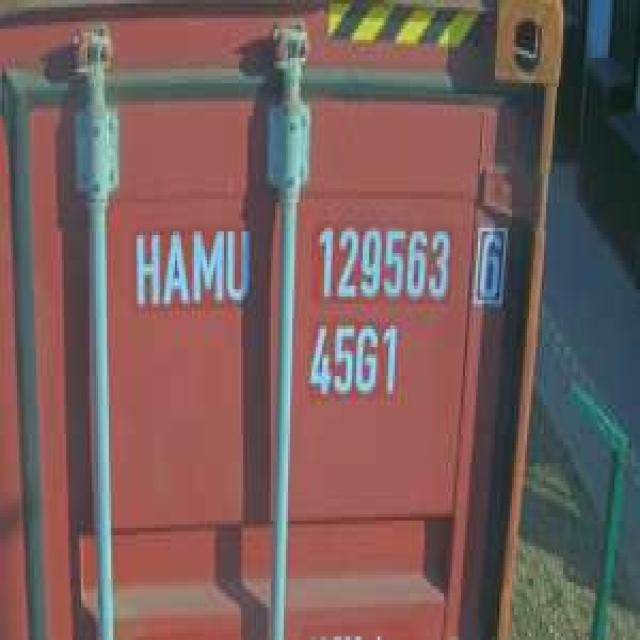dv: (473, 218, 512, 314)
owner: (130, 222, 258, 318)
serial: (314, 217, 453, 311)
size: (302, 316, 404, 407)
